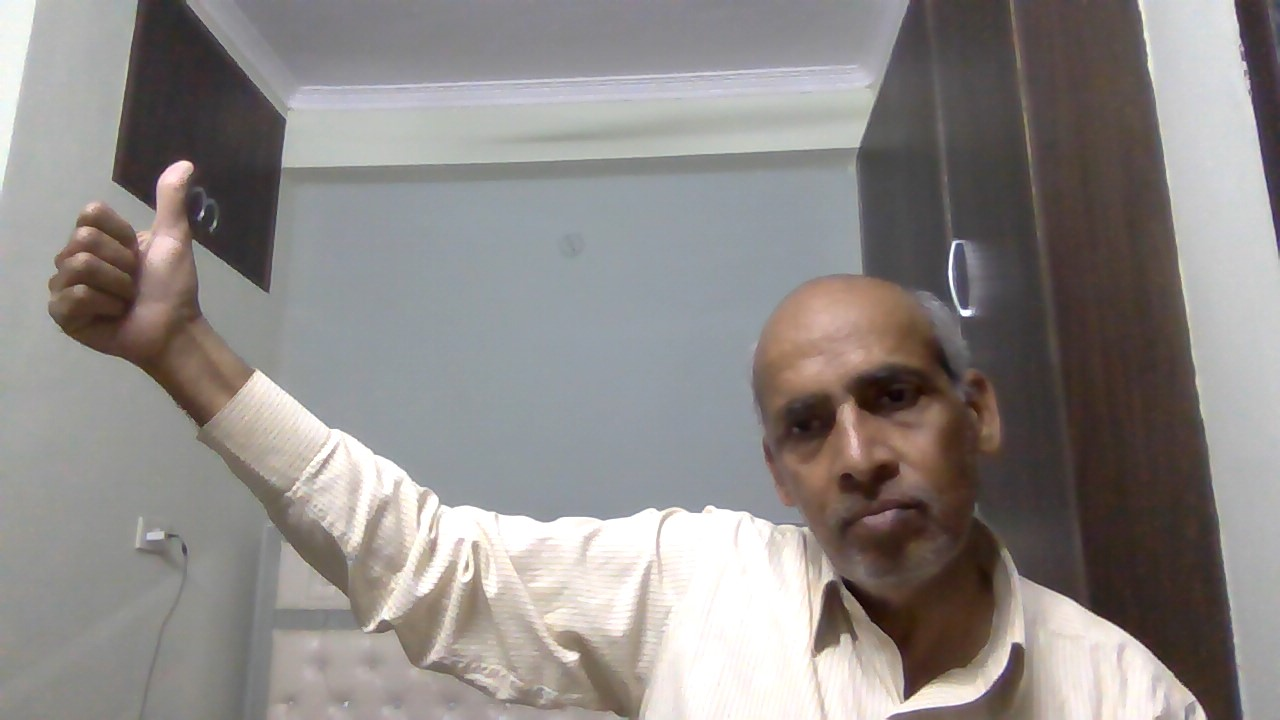Save: (35, 150, 224, 385)
